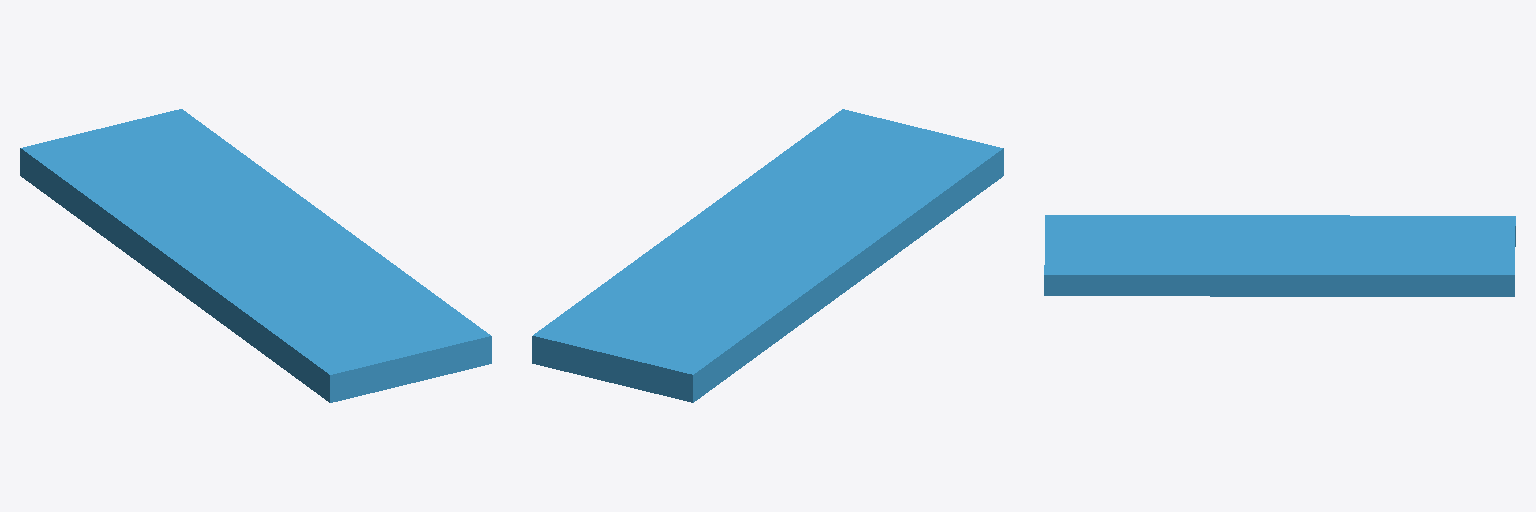
robot.urdf — traffic_light:
<?xml version="1.0" ?>
<robot name="traffic_light">

    <link name="world"/>

    <joint name="base_joint" type="fixed">
        <parent link="world"/>
        <child link="base_link"/>
        <origin xyz="-1.55 0.75 0.0025" rpy="0 0 1.57"/>
    </joint>

    <link name="base_link">

        <visual>
            <geometry>
                <box size="0.1 0.03 0.005"/>
            </geometry>
        </visual>

        <collision>
            <origin xyz="0 0 0" rpy="0 0 0"/>
            <geometry>
                <box size="0.1 0.03 0.005"/>
            </geometry>
        </collision>

        <inertial>
            <origin xyz="0 0 0" rpy="0 0 0"/>
            <mass value="0.1"/>
            <inertia ixx="0.0001" ixy="0" ixz="0"
                     iyy="0.0001" iyz="0"
                     izz="0.0001" />
        </inertial>

    </link>

    <link name="light_red">
        <visual>
            <geometry>
                <cylinder length="0.003" radius="0.009"/>
            </geometry>
        </visual>
        <inertial>
            <origin xyz="0 0 0" rpy="0 0 0"/>
            <mass value="0.01"/>
            <inertia ixx="0.0001" ixy="0" ixz="0"
                    iyy="0.0001" iyz="0"
                    izz="0.0001" />
        </inertial>
        <gravity>0</gravity>
    </link>

    <joint name="base_to_light_red" type="prismatic">
        <parent link="base_link"/>
        <child link="light_red"/>
        <origin xyz="-0.0333 0.0 0.0" rpy="0 0 0"/>
        <axis xyz="0 0 1"/>
        <limit lower="0.0" upper="0.002" effort="1000.0" velocity="1000.0"/>
        <dynamics damping="0.0" friction="0.1"/>
    </joint>

    <link name="light_yellow">
        <visual>
            <geometry>
                <cylinder length="0.003" radius="0.009"/>
            </geometry>
        </visual>
        <inertial>
            <origin xyz="0 0 0" rpy="0 0 0"/>
            <mass value="0.01"/>
            <inertia ixx="0.0001" ixy="0" ixz="0"
                    iyy="0.0001" iyz="0"
                    izz="0.0001" />
        </inertial>
        <gravity>0</gravity>
    </link>

    <joint name="base_to_light_yellow" type="prismatic">
        <parent link="base_link"/>
        <child link="light_yellow"/>
        <origin xyz="0 0 0" rpy="0 0 0"/>
        <axis xyz="0 0 1"/>
        <limit lower="0.0" upper="0.002" effort="1000.0" velocity="1000.0"/>
        <dynamics damping="0.0" friction="0.1"/>
    </joint>

    <link name="light_green">
        <visual>
            <geometry>
                <cylinder length="0.003" radius="0.009"/>
            </geometry>
        </visual>
        <inertial>
            <origin xyz="0 0 0" rpy="0 0 0"/>
            <mass value="0.01"/>
            <inertia ixx="0.0001" ixy="0" ixz="0"
                    iyy="0.0001" iyz="0"
                    izz="0.0001" />
        </inertial>
        <gravity>0</gravity>
    </link>

    <joint name="base_to_light_green" type="prismatic">
        <parent link="base_link"/>
        <child link="light_green"/>
        <origin xyz="0.0333 0 0" rpy="0 0 0"/>
        <axis xyz="0 0 1"/>
        <limit lower="0.0" upper="0.002" effort="1000.0" velocity="1000.0"/>
        <dynamics damping="0.0" friction="0.1"/>
    </joint>

    <gazebo reference="base_link">
        <material>Gazebo/Gray</material>
    </gazebo>

    <gazebo reference="light_red">
        <material>Gazebo/Red</material>
    </gazebo>

    <gazebo reference="light_yellow">
        <material>Gazebo/Yellow</material>
    </gazebo>

    <gazebo reference="light_green">
        <material>Gazebo/Green</material>
    </gazebo>

</robot>

--- Facts derived from the render (not from the file) ---
The picture shows the robot from 3 angles, left to right: view 1: azimuth 30°, elevation 25°; view 2: azimuth 150°, elevation 25°; view 3: azimuth 270°, elevation 25°; orthographic projection.
Robot: traffic_light — 5 links, 4 joints (3 prismatic, 1 fixed); root link world; default pose: all joints at 0.
Visible links, largest first — view 1: base_link; view 2: base_link; view 3: base_link.
Boxes of the visible links, <box> form: base_link: <box>20,109,491,402</box>; base_link: <box>532,109,1003,402</box>; base_link: <box>1044,215,1515,296</box>.
Bounding box of the posed robot: 0.0301 × 0.1 × 0.005 m (x, y, z).
Geometry: primitives only (box / cylinder / sphere), no mesh files.